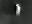person: (16, 4, 22, 18)
